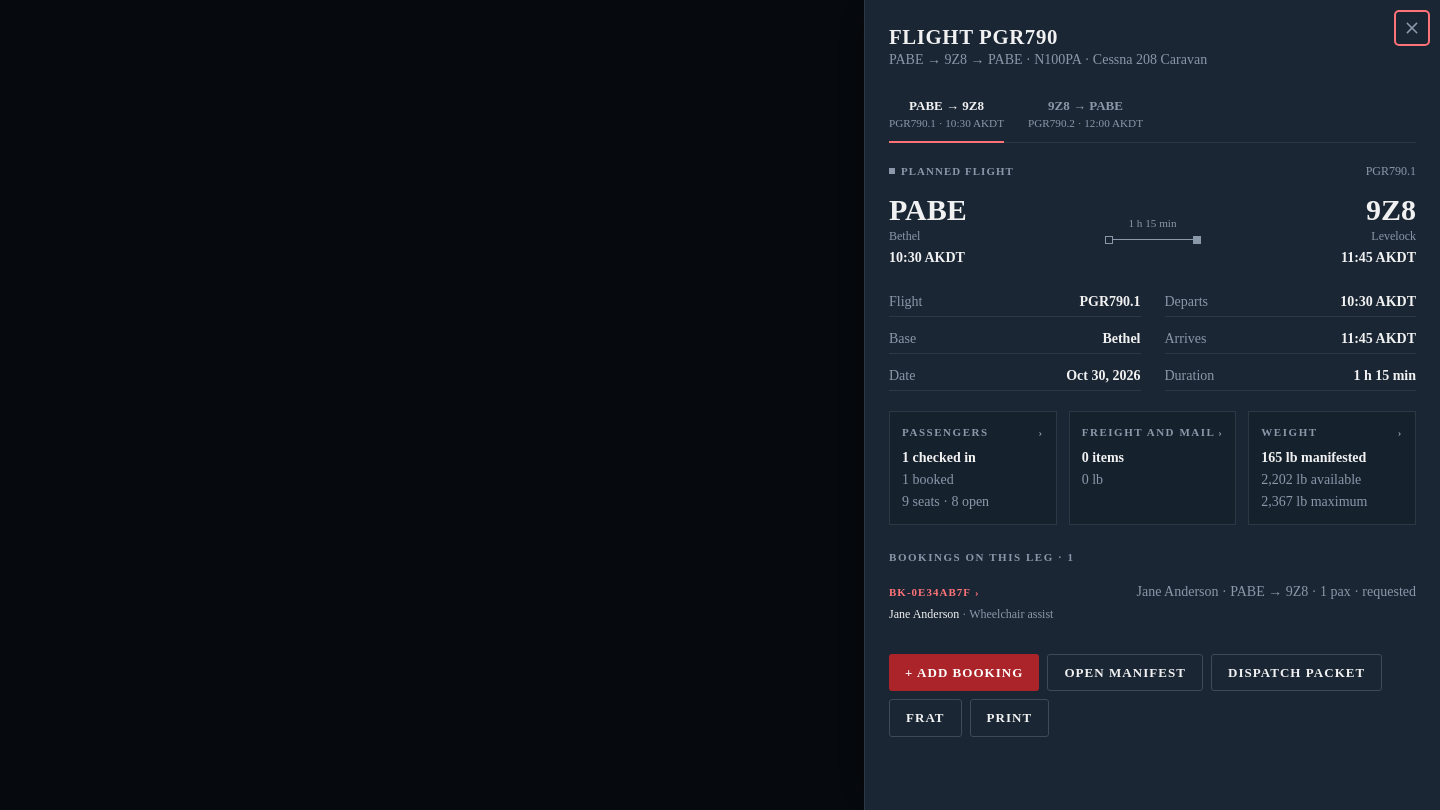
Test: the flight panel › has a tab for each leg, and the other leg adds bookings from there
Check: the panel is shown, box [889, 163, 1416, 737]
Click the tab "9Z8 → PABE PGR790.2 · 12:00 AKDT" at (1086, 114), box [1028, 86, 1143, 142]
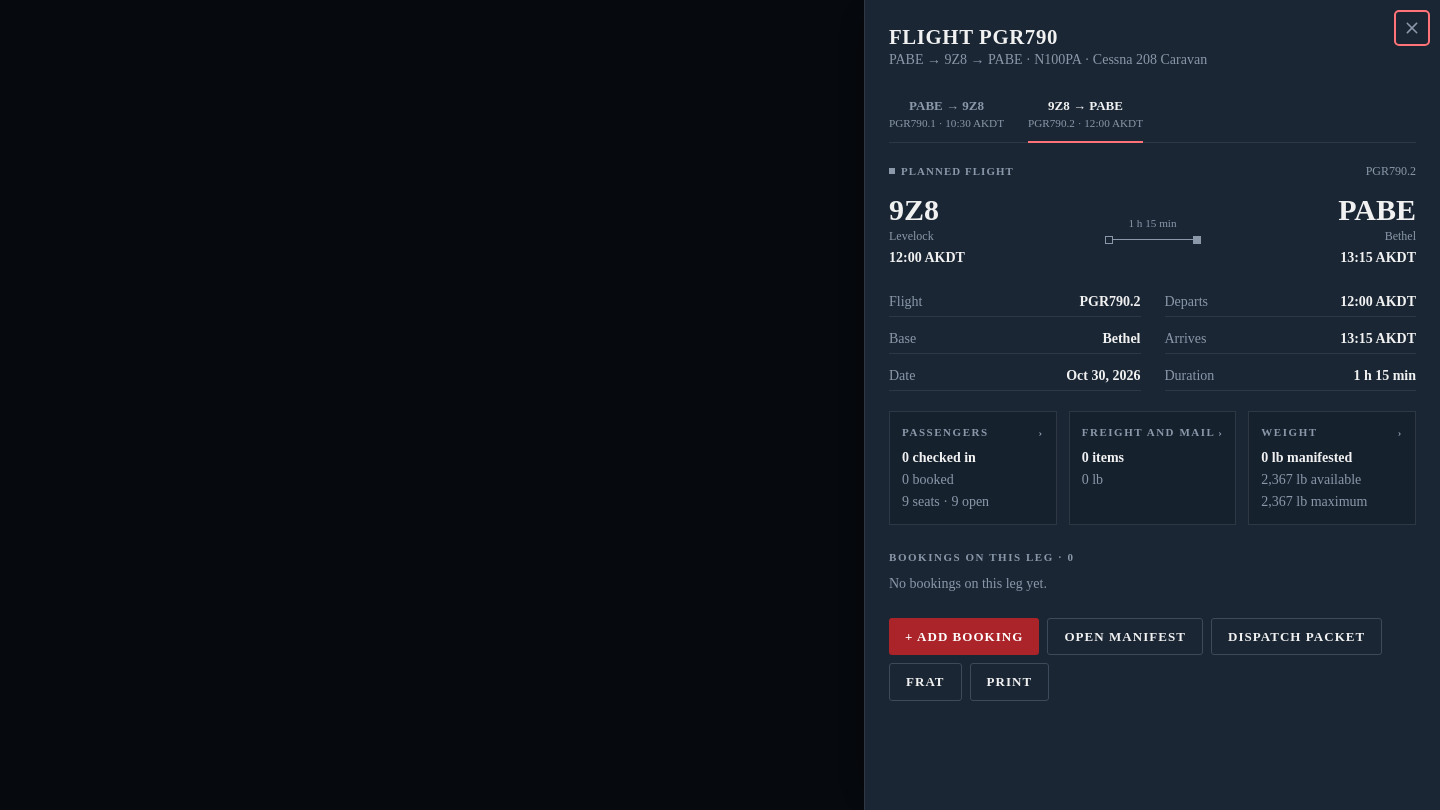
Check: the link with aria-label "Passengers: 0 checked in, 0 booked" is shown, box [889, 411, 1057, 525]
Check: the text "No bookings on this leg yet." is shown, box [889, 576, 1047, 591]
